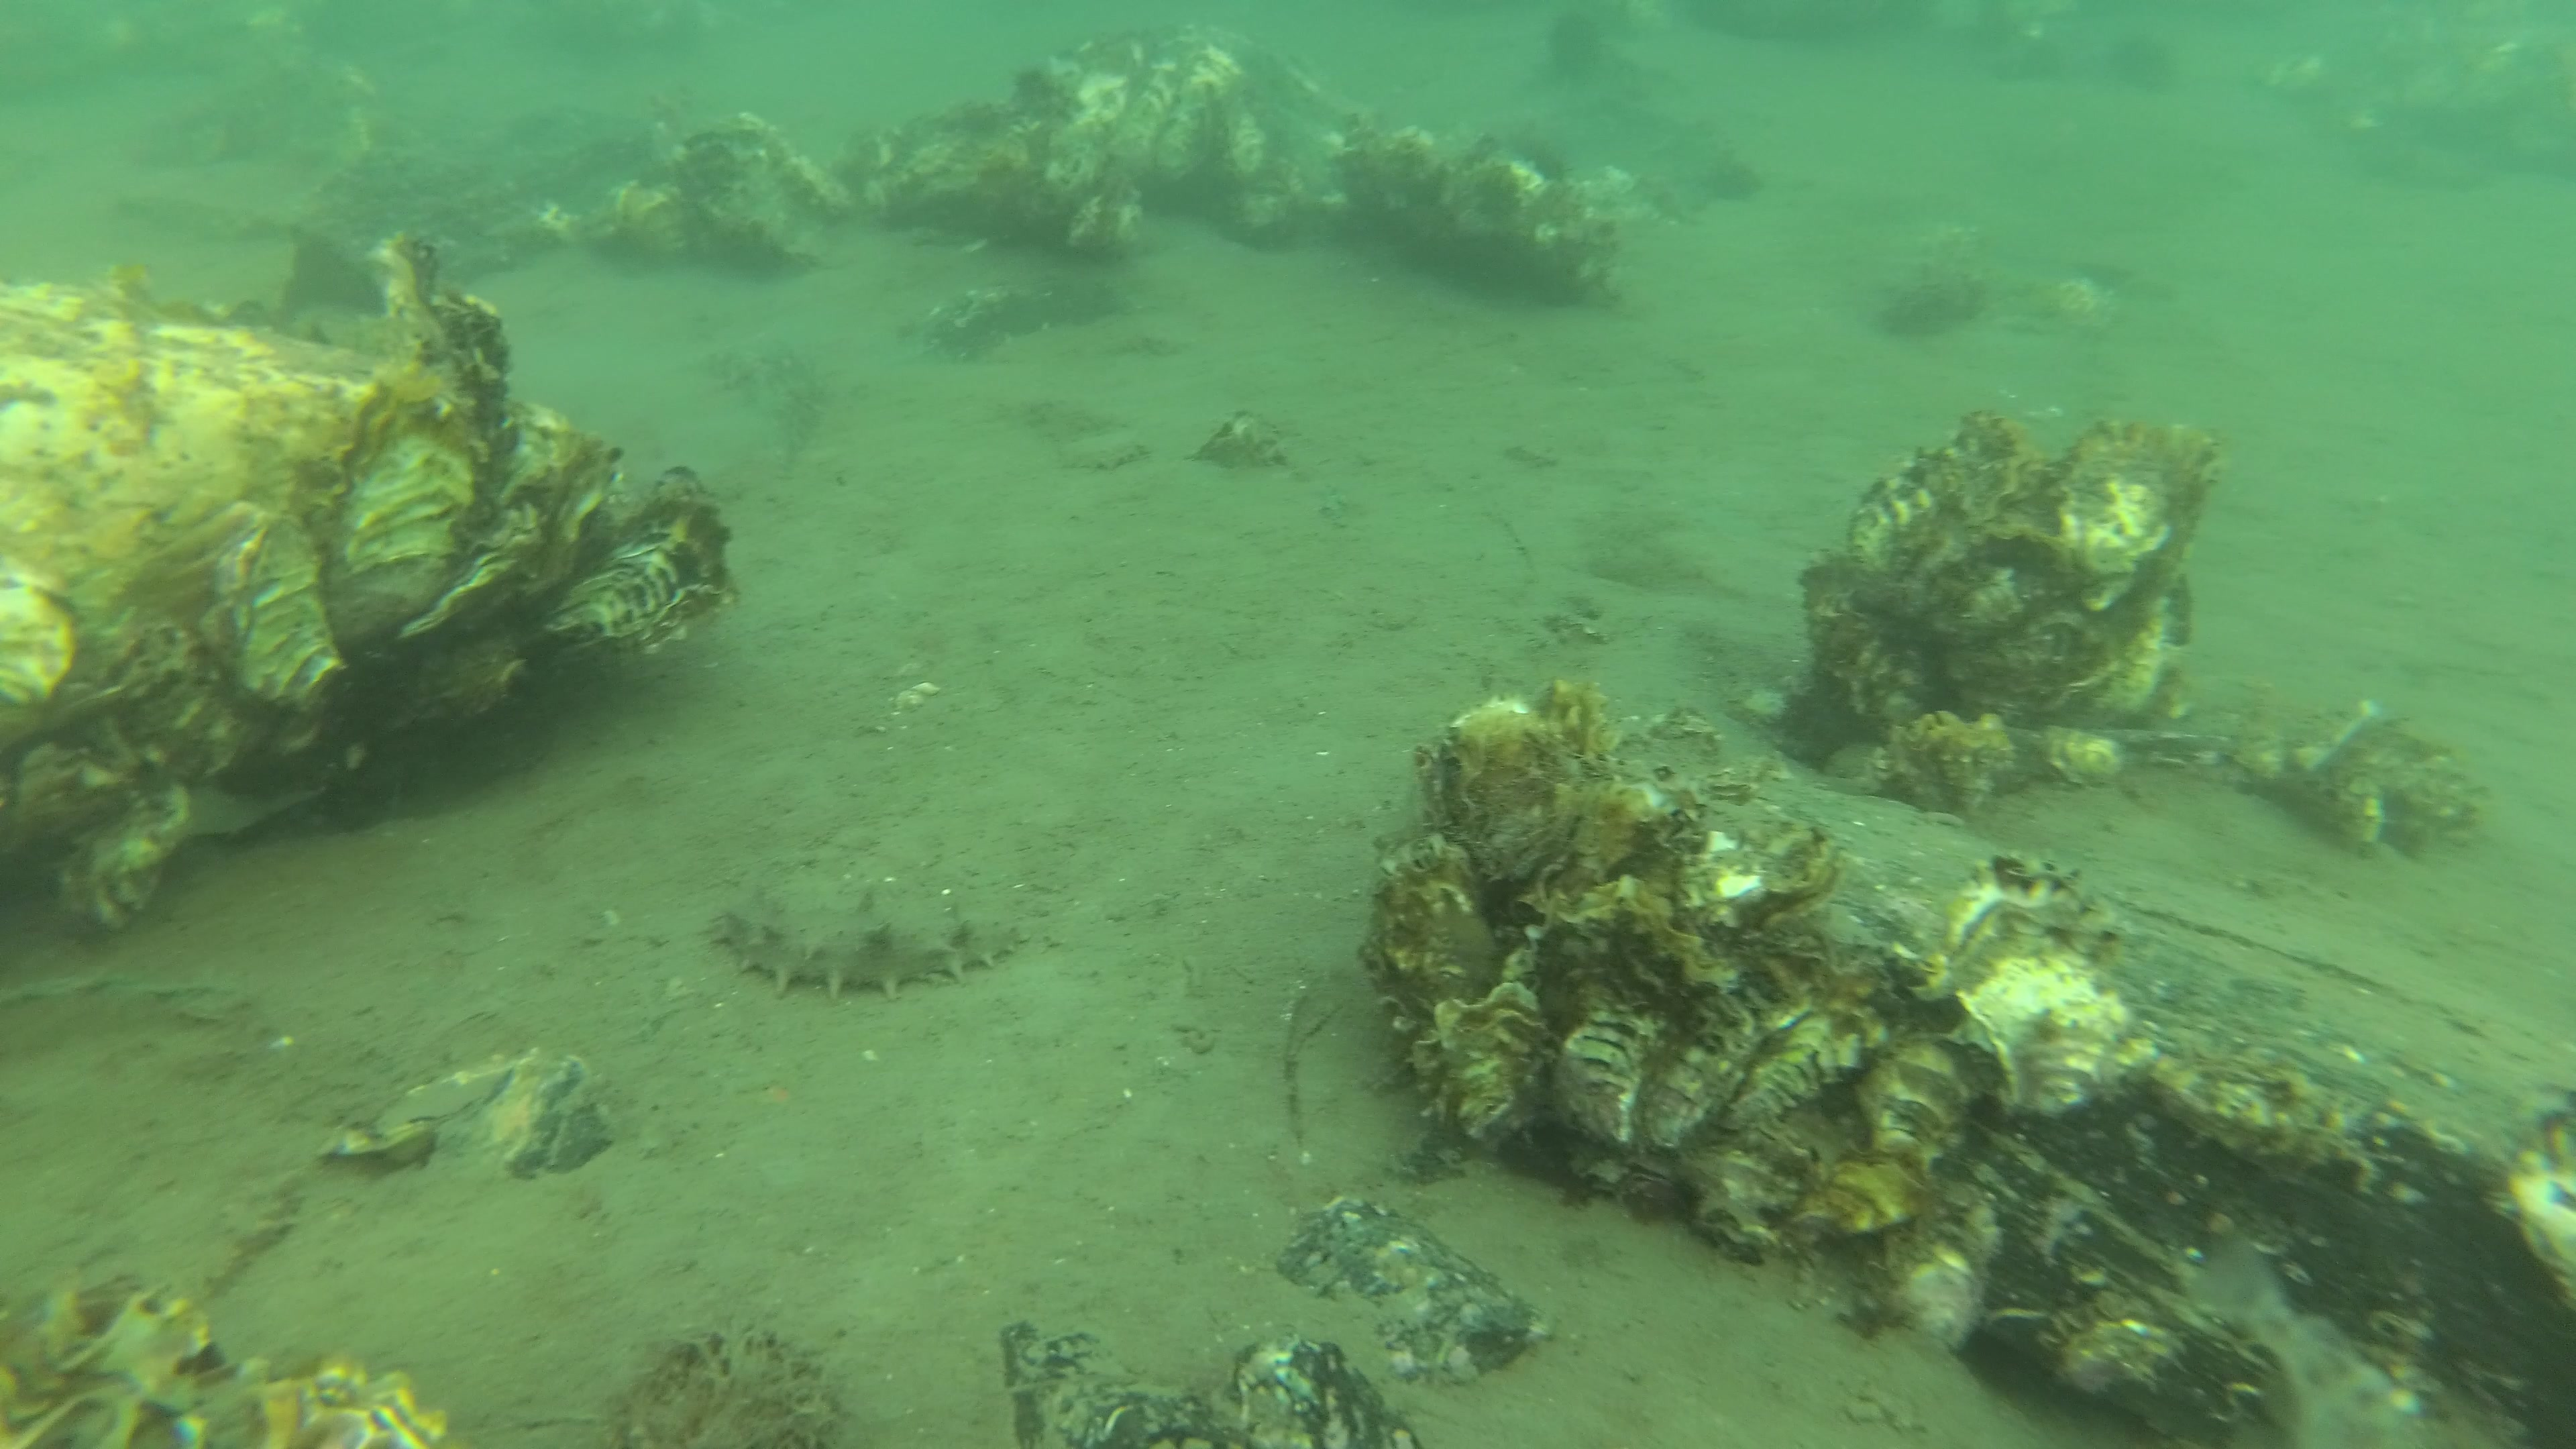holothurian: (702, 890, 1023, 993)
